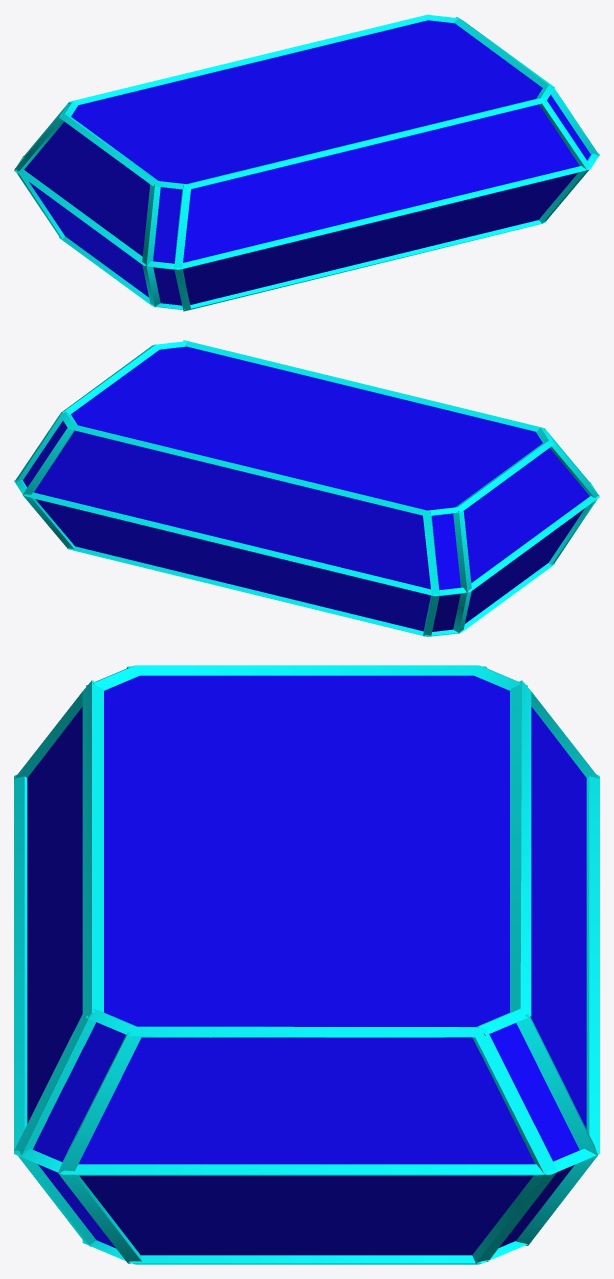
File: ShieldBlock.FBX
3 views of the same model, one above another, from view 1: azimuth 30°, elevation 25°; view 2: azimuth 150°, elevation 25°; view 3: azimuth 270°, elevation 25° (orthographic). The views are drawn at different scales.
Visible parts, largest first — view 1: ShieldBody; view 2: ShieldBody; view 3: ShieldBody.
Part boxes in pixels (x1,y1,x2,y2): ShieldBody: [14, 14, 599, 311]; ShieldBody: [14, 340, 599, 636]; ShieldBody: [14, 665, 599, 1264].
Size of the model in its own units: 46.42 by 12.29 by 27.43.
